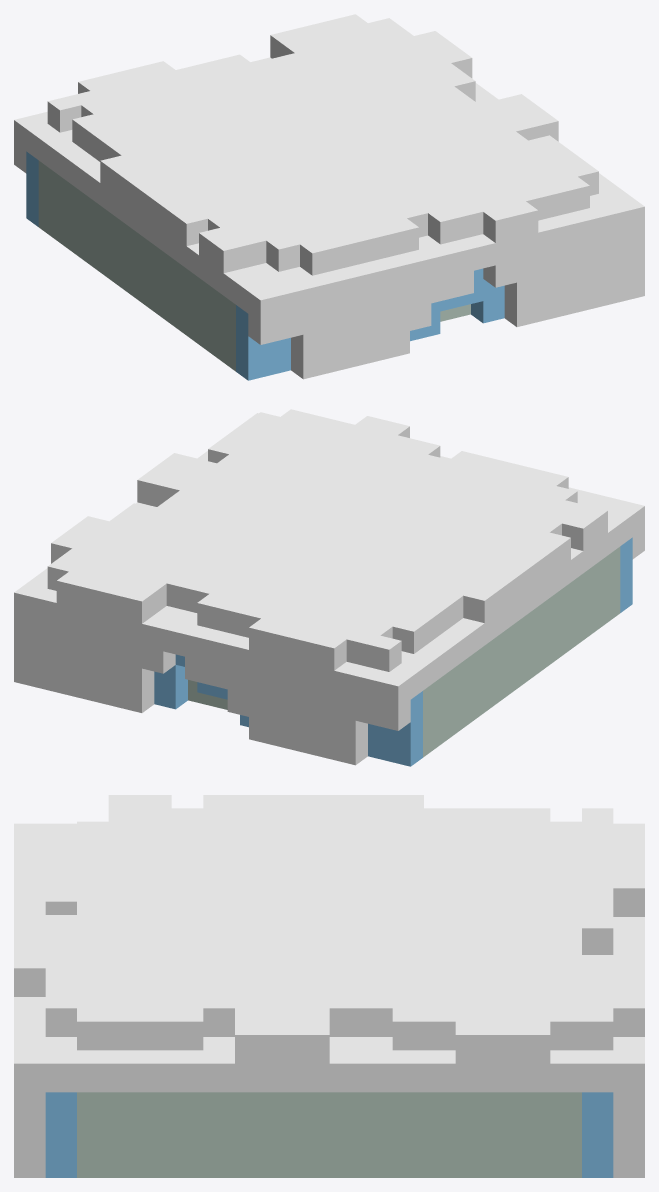
The model's file is Floors-18.obj.
3 views of the same model, one above another, from view 1: azimuth 30°, elevation 25°; view 2: azimuth 150°, elevation 25°; view 3: azimuth 270°, elevation 25° (orthographic). The views are drawn at different scales.
Size of the model in its own units: 1.8 by 0.5 by 2.
